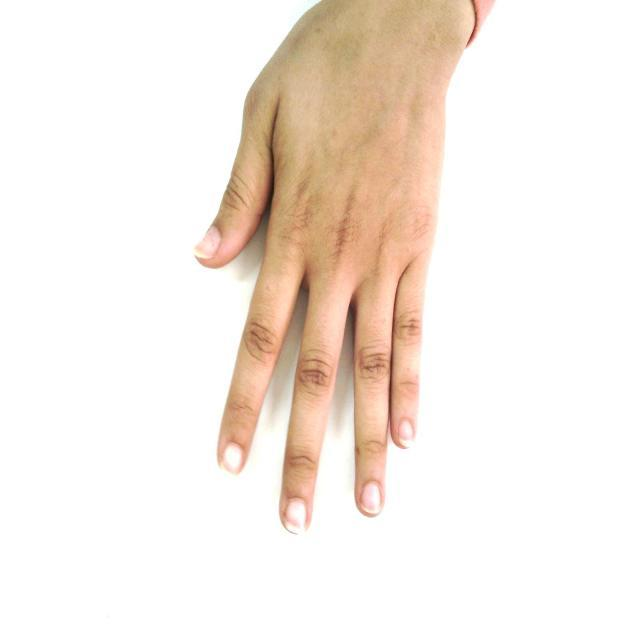Fingernail: (194, 227, 219, 257), (285, 499, 306, 534), (362, 482, 381, 512), (223, 444, 242, 473), (399, 420, 413, 443)
